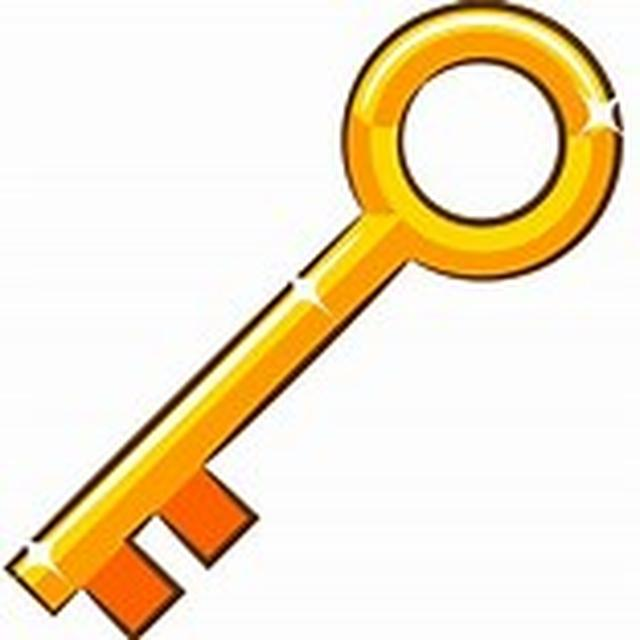key: (0, 21, 624, 640)
